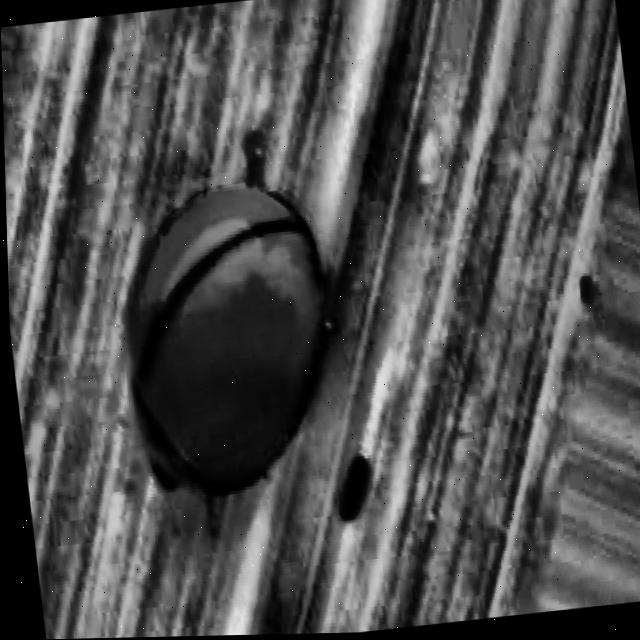Ladybug: (26, 80, 398, 591)
